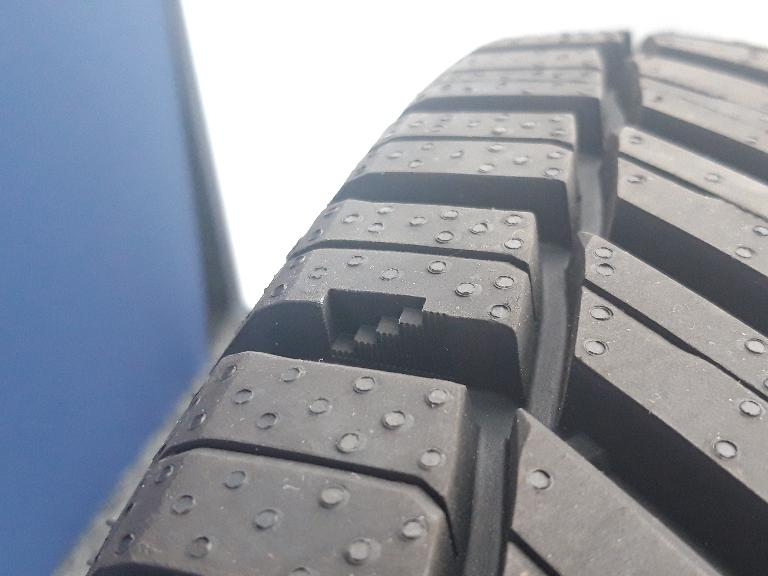temoin:100: (318, 283, 460, 382)
